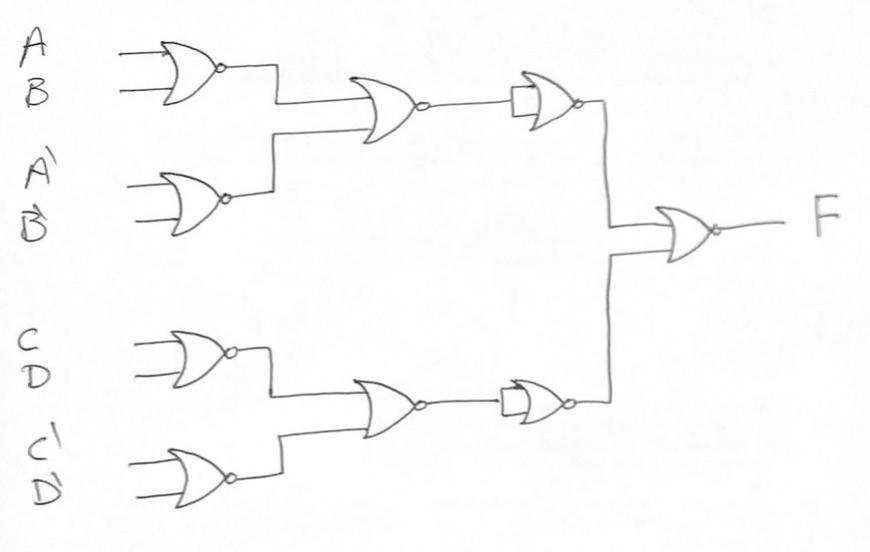NOR: (341, 66, 441, 160), (336, 366, 451, 443), (156, 430, 256, 513), (147, 163, 245, 247), (650, 189, 736, 282), (153, 24, 238, 117), (153, 319, 249, 398), (517, 56, 592, 148), (507, 366, 584, 439)
